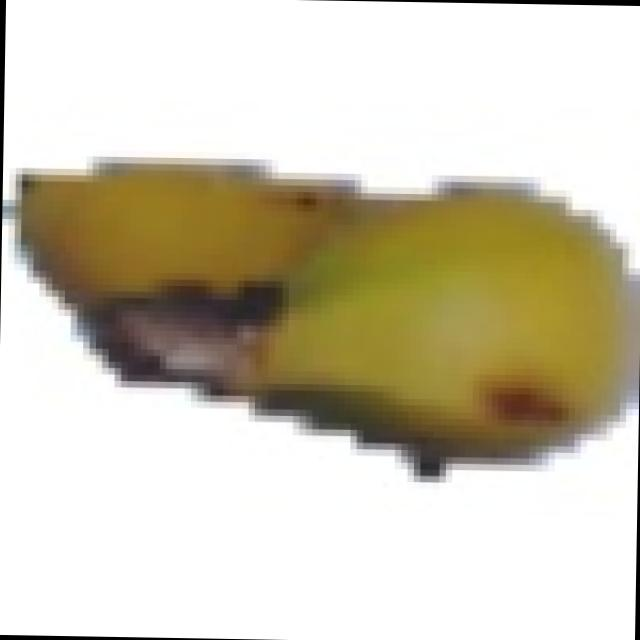banana_pacche: (0, 6, 636, 595)
